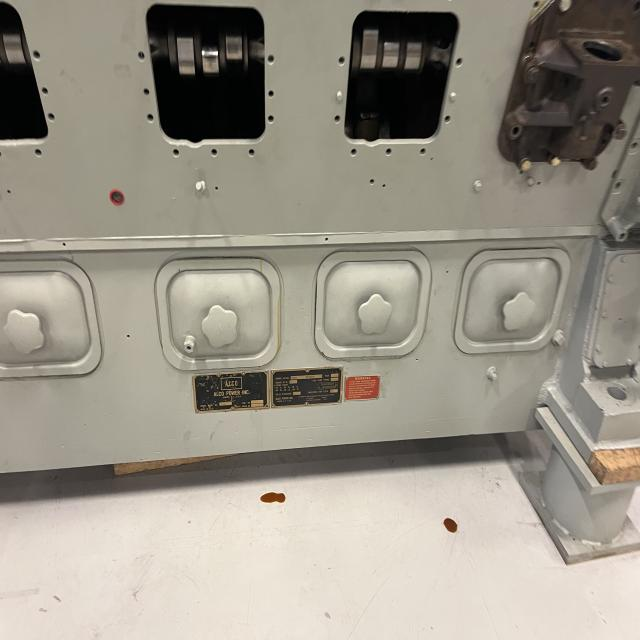Oil Leak: (258, 258, 284, 367), (441, 515, 460, 535), (260, 492, 286, 503)
